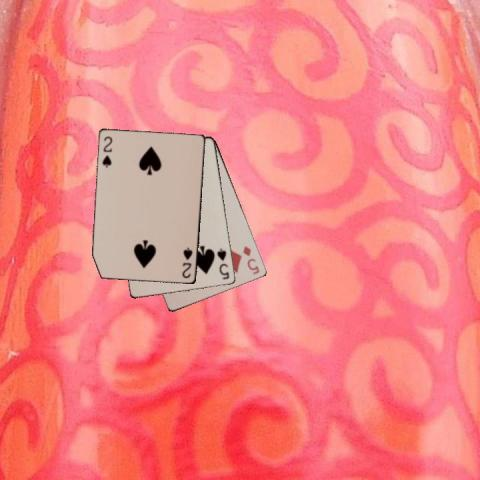2s: (179, 245, 194, 280), (100, 133, 114, 169)
5d: (240, 243, 261, 276)
5s: (214, 245, 231, 281)
